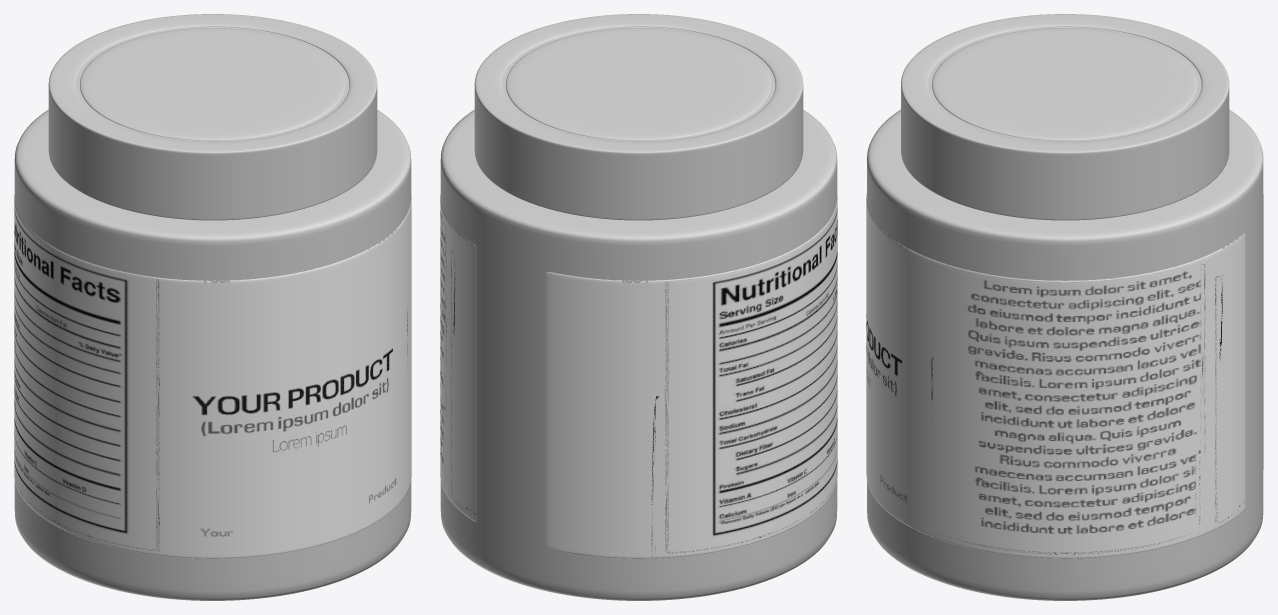
File: GLB 6.glb
3 renders of one model, left to right at view 1: azimuth 30°, elevation 25°; view 2: azimuth 150°, elevation 25°; view 3: azimuth 270°, elevation 25°, orthographic.
Visible parts, largest first — view 1: Cylinder.004; view 2: Cylinder.004; view 3: Cylinder.004.
Boxes of the visible parts, bbox=[...] form: Cylinder.004: bbox=[14, 14, 411, 600]; Cylinder.004: bbox=[440, 14, 837, 600]; Cylinder.004: bbox=[866, 14, 1263, 600].
Bounding box in the file's own units: 1.11 × 1.35 × 1.11.
Materials: 2 (1 with a texture image).
